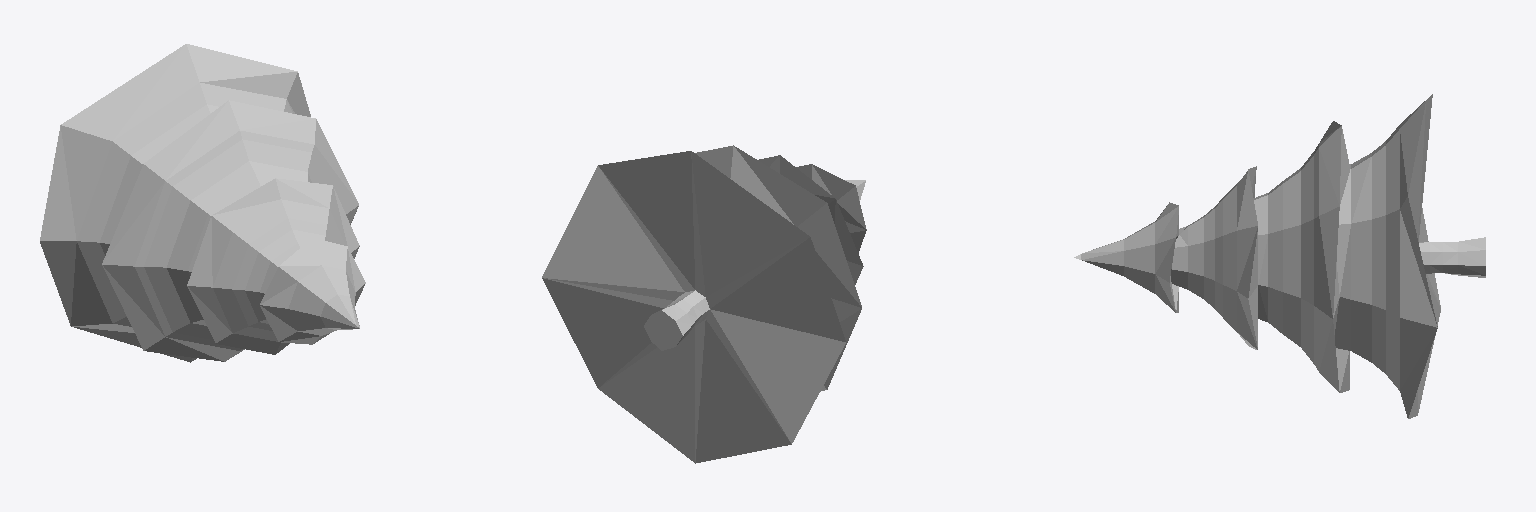
File: tree6.obj
The picture shows the model from 3 angles: view 1: azimuth 30°, elevation 25°; view 2: azimuth 150°, elevation 25°; view 3: azimuth 270°, elevation 25°; orthographic projection.
Parts seen in each view (by area): view 1: tree; view 2: tree; view 3: tree.
Boxes of the visible parts, x1,y1,x2,y2 form: tree: [40, 44, 365, 362]; tree: [542, 145, 866, 463]; tree: [1074, 94, 1485, 418].
Bounding box in the file's own units: 1.04 × 1.06 × 1.25.